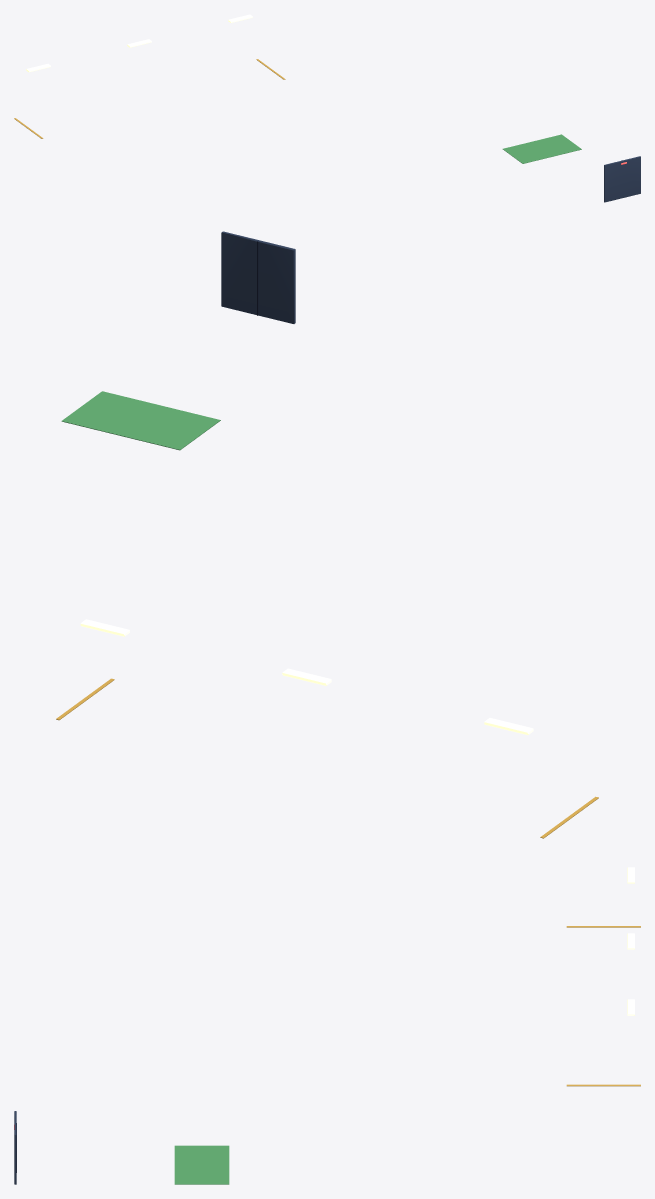
Rendered from backstage.glb.
3 renders of one model, top to bottom at view 1: azimuth 30°, elevation 25°; view 2: azimuth 150°, elevation 25°; view 3: azimuth 270°, elevation 25°, orthographic. The views are drawn at different scales.
Parts seen in each view (by area): view 1: backstage; view 2: backstage; view 3: backstage.
Boxes of the visible parts, x1,y1,x2,y2 form: backstage: (14, 14, 640, 202); backstage: (56, 231, 598, 838); backstage: (14, 867, 640, 1184).
Size of the model in its own units: 31.27 by 3.74 by 32.06.
